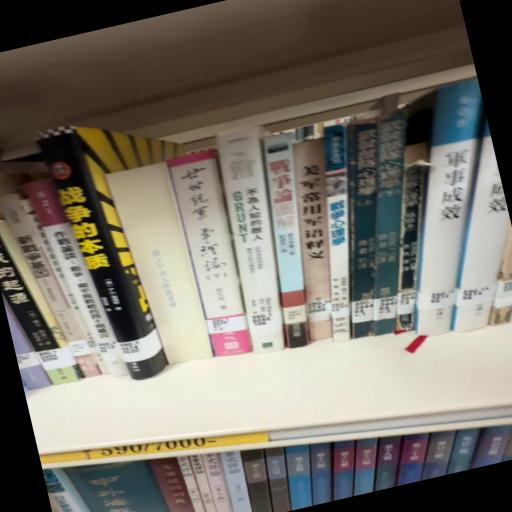backward: (107, 163, 214, 365)
book: (46, 126, 174, 392), (208, 127, 316, 360), (104, 161, 214, 376), (170, 148, 264, 363)
